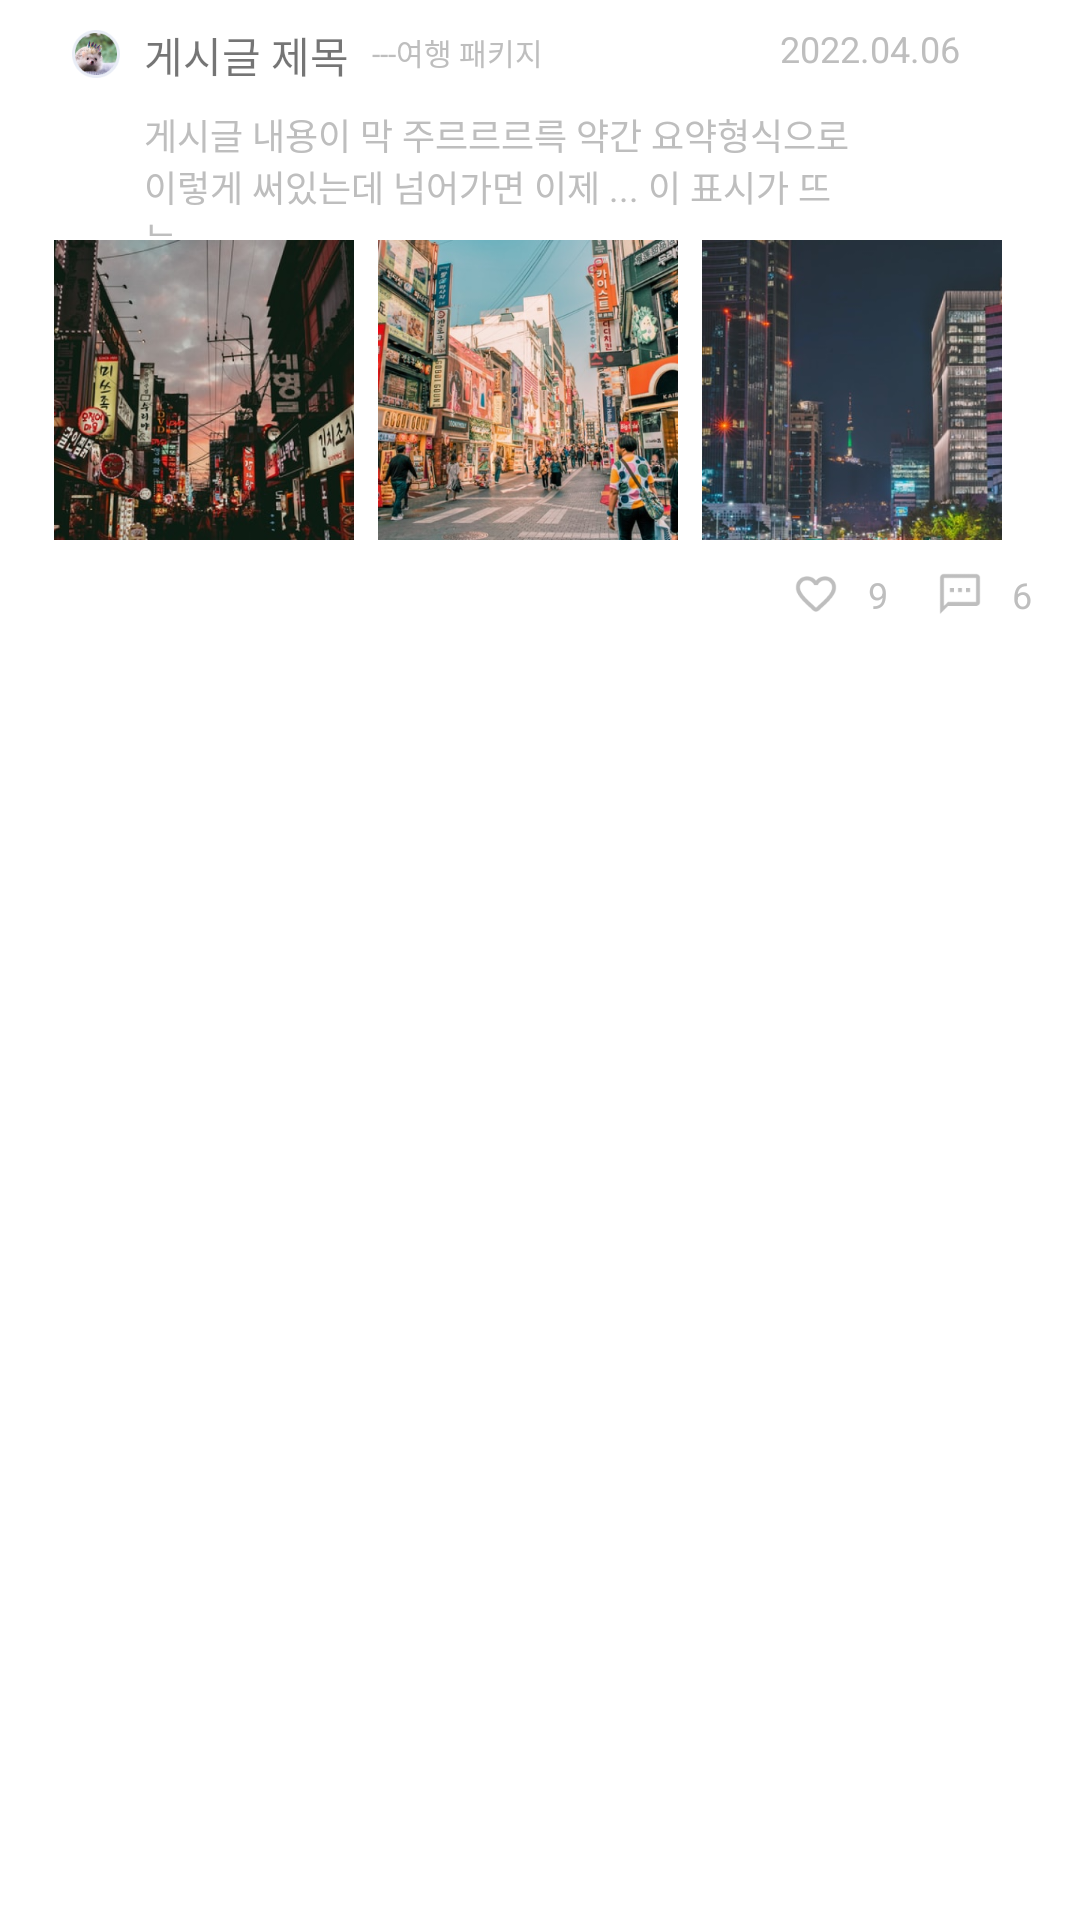

Icons on this 1080px x 1920px Android screen, each with the point to tap as (x=x, y=y):
hearth: (x=816, y=594)
message: (x=960, y=593)
profil: (x=96, y=54)
